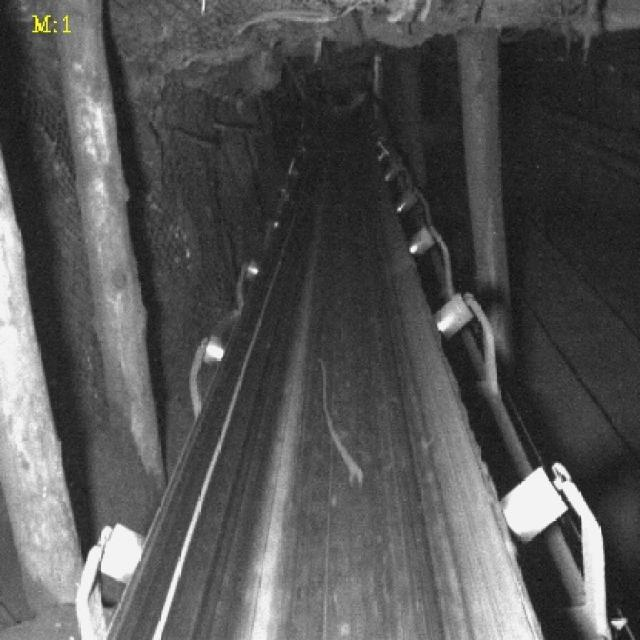bolt: (319, 358, 366, 492)
